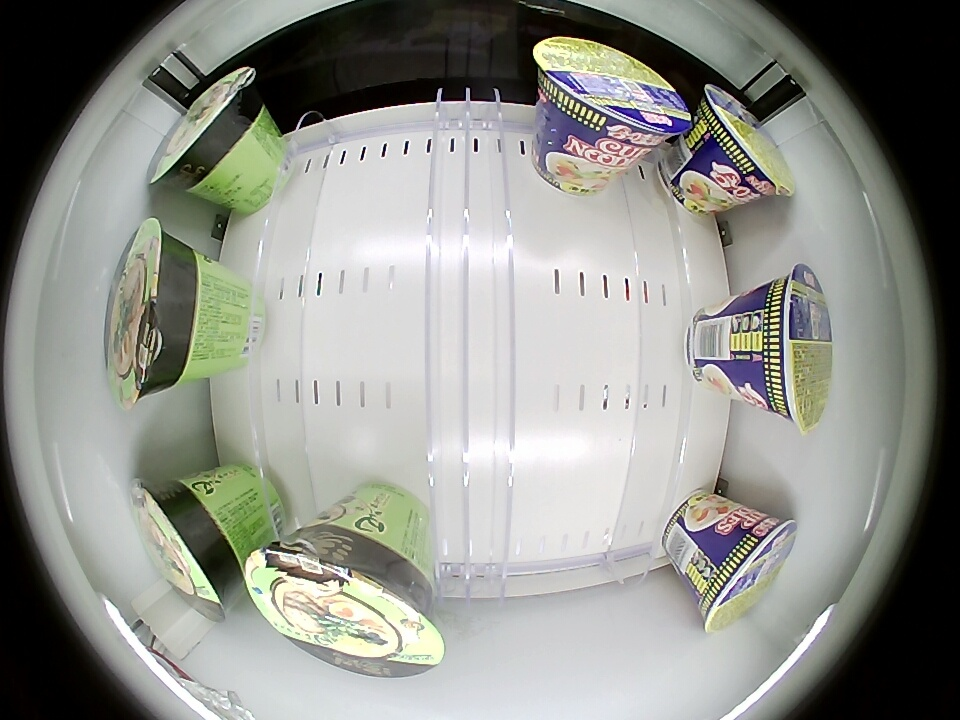heweidao: (535, 37, 691, 149), (757, 267, 832, 433), (695, 80, 796, 202), (697, 510, 797, 632)
tangdaren: (244, 524, 445, 679), (104, 217, 209, 410), (128, 476, 243, 623), (145, 61, 265, 193)
